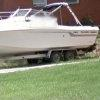Boat: (2, 4, 98, 65)
